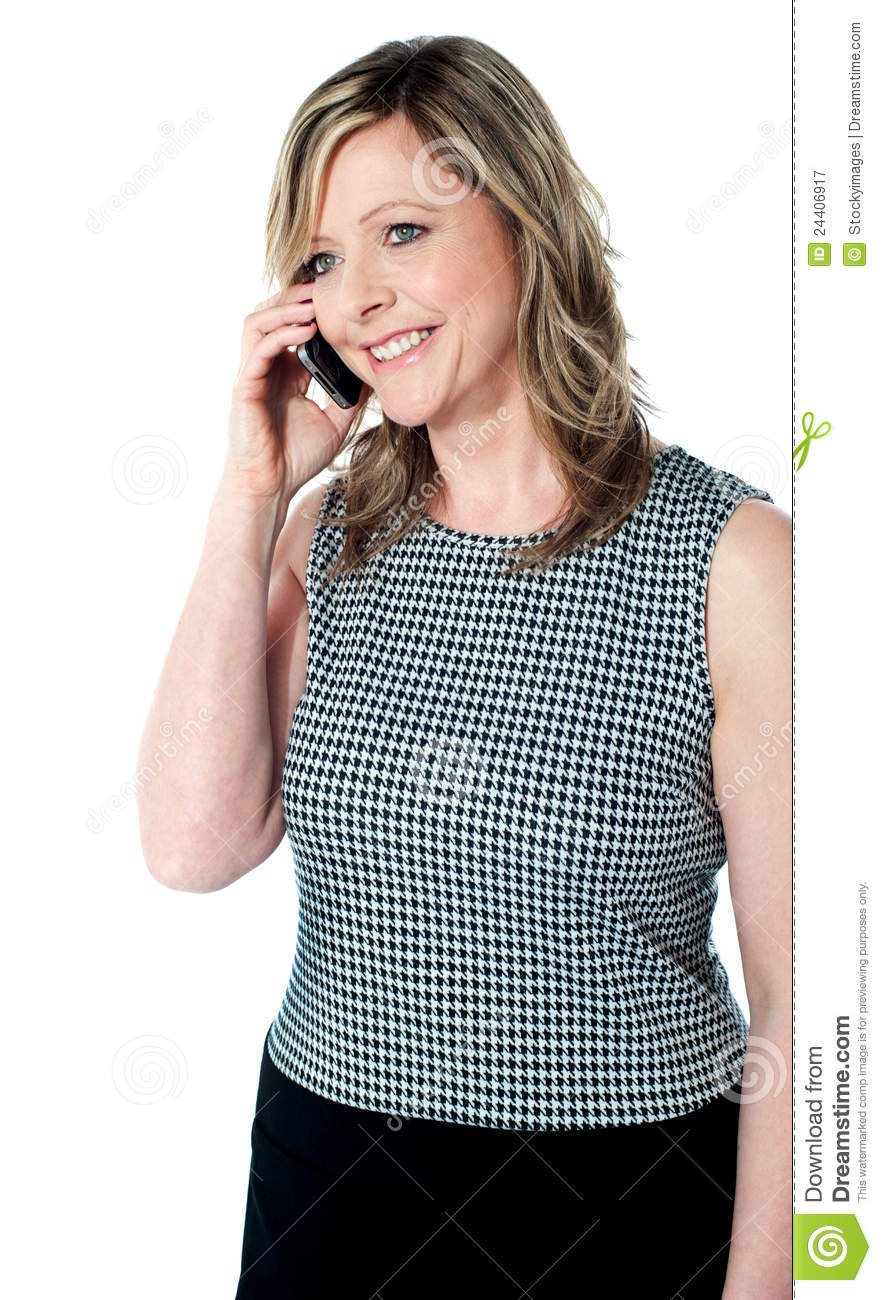talk: (219, 189, 464, 520)
